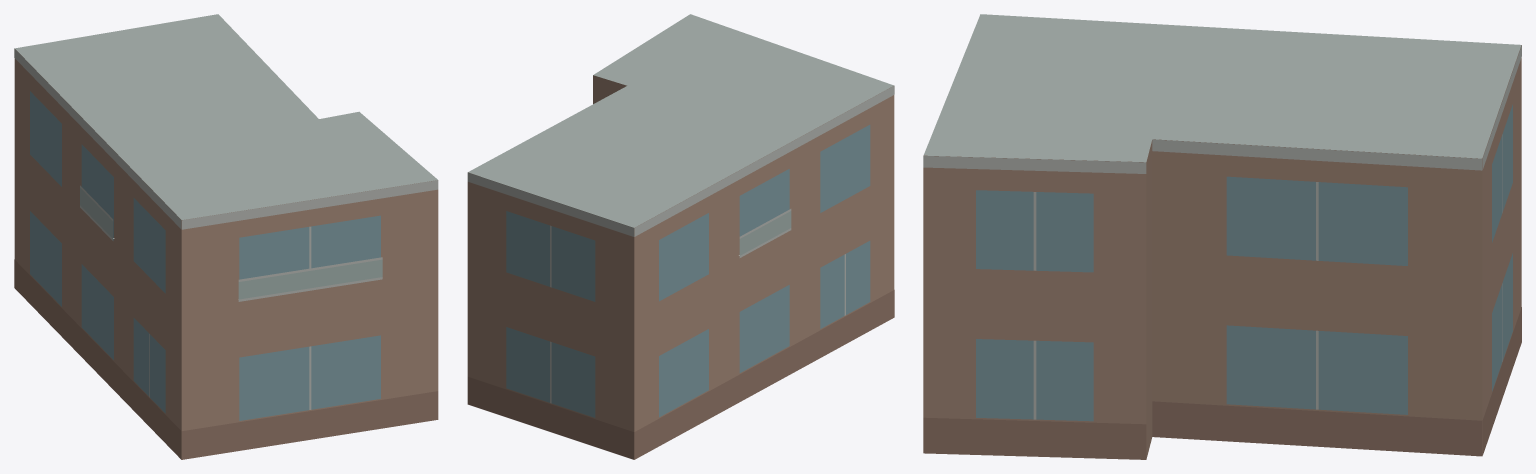
The model's file is survey-upis-32823161.glb.
3 views of the same model, side by side, from view 1: azimuth 30°, elevation 25°; view 2: azimuth 150°, elevation 25°; view 3: azimuth 270°, elevation 25° (orthographic). The views are drawn at different scales.
Parts seen in each view (by area): view 1: survey-upis-32823161.tmp; view 2: survey-upis-32823161.tmp; view 3: survey-upis-32823161.tmp.
Boxes of the visible parts, <box> form: survey-upis-32823161.tmp: <box>14,14,438,459</box>; survey-upis-32823161.tmp: <box>467,14,894,459</box>; survey-upis-32823161.tmp: <box>923,14,1521,459</box>.
Bounding box in the file's own units: 6.52 × 6.1 × 11.12.
